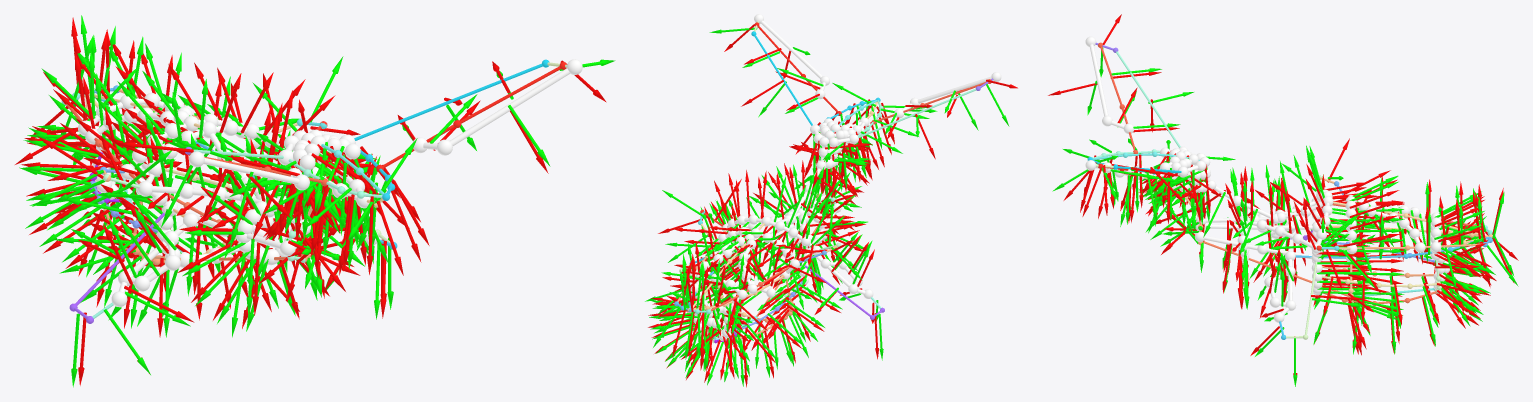
File: ils_spacecraft_29.gltf
3 renders of one model, left to right at view 1: azimuth 30°, elevation 25°; view 2: azimuth 150°, elevation 25°; view 3: azimuth 270°, elevation 25°, orthographic. The views are drawn at different scales.
Size of the model in its own units: 0.7111 by 0.5096 by 0.8738.
